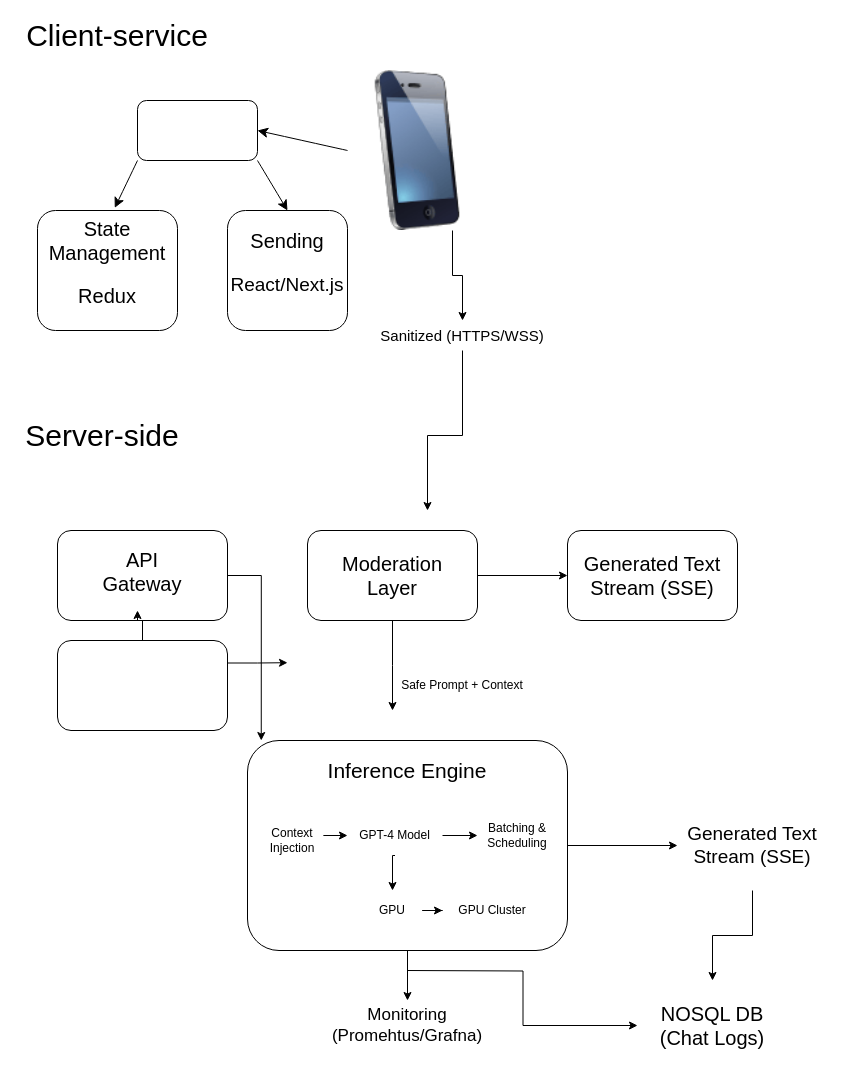
This 844x1087 diagram has some shape labels left out. Each missing label, with the centre of its shape:
Input: (197,130)
RetiveSessions: (142,685)
